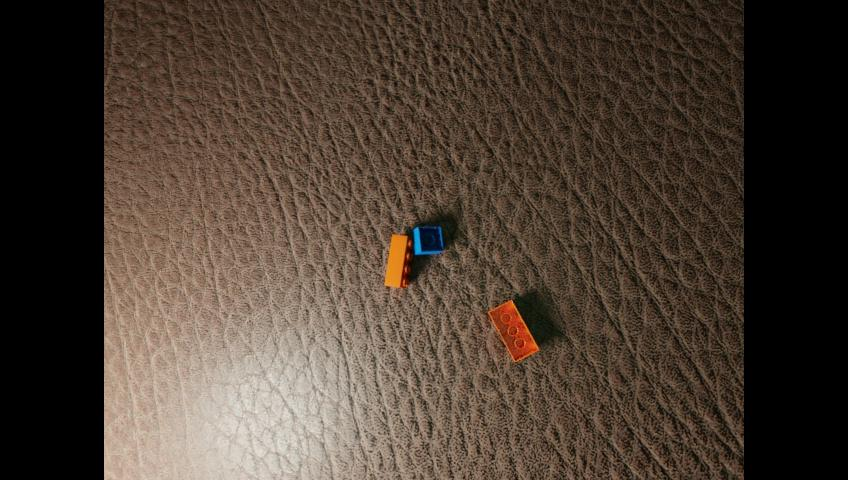2x2_blue: (412, 226, 444, 256)
4x2_orange: (488, 299, 538, 361), (386, 235, 414, 288)
